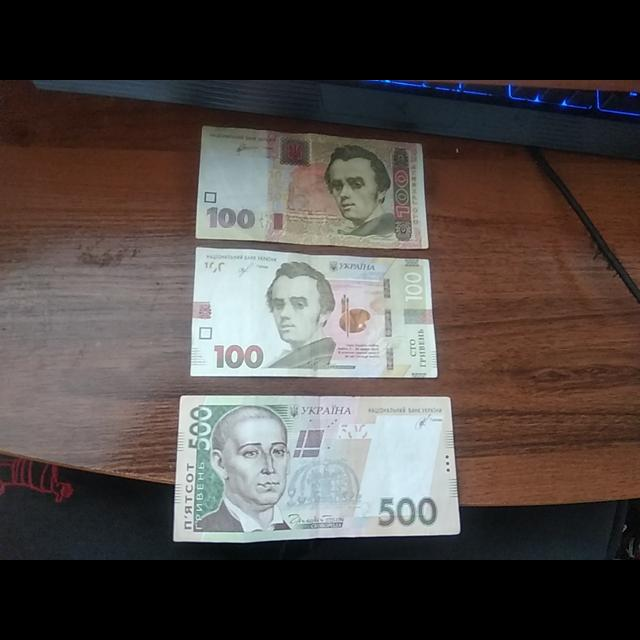100uah: (189, 249, 437, 377), (197, 126, 429, 249)
500uah: (173, 396, 460, 542)
